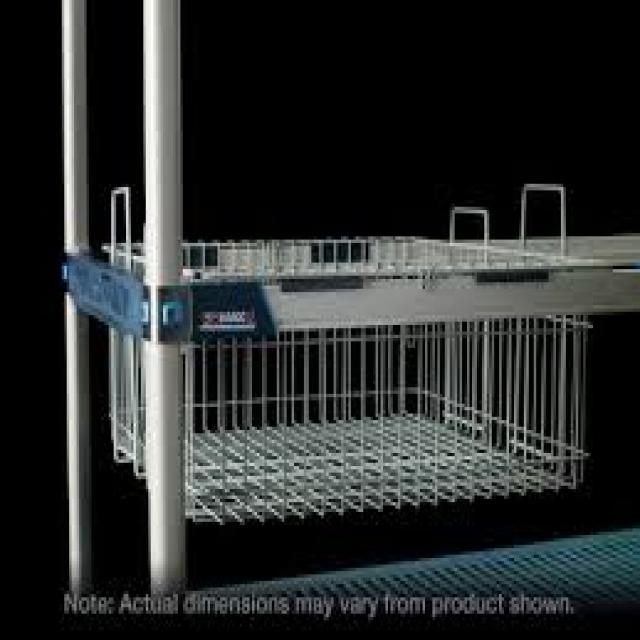basket: (168, 303, 607, 530), (111, 187, 133, 272)
